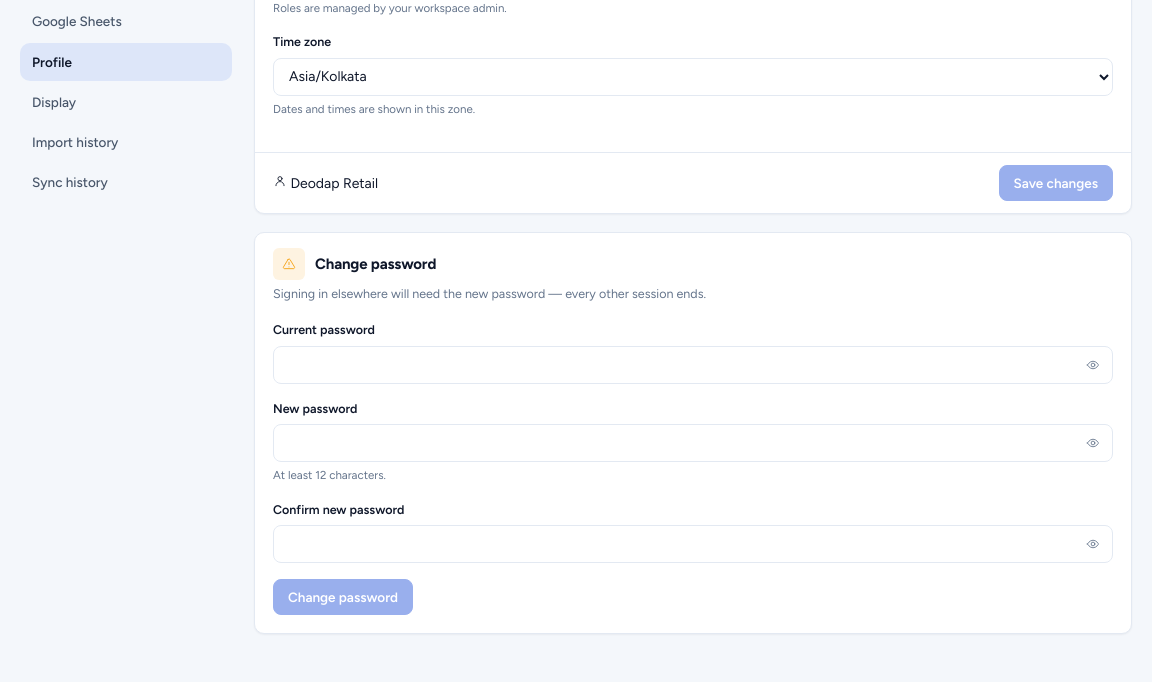
Test: Change password › sends both passwords, clears the form and reports the other sessions ending
(page scrolled)
Type "correct horse battery" into the password field labelled "Current password" at (693, 364), box [273,346,1113,384]
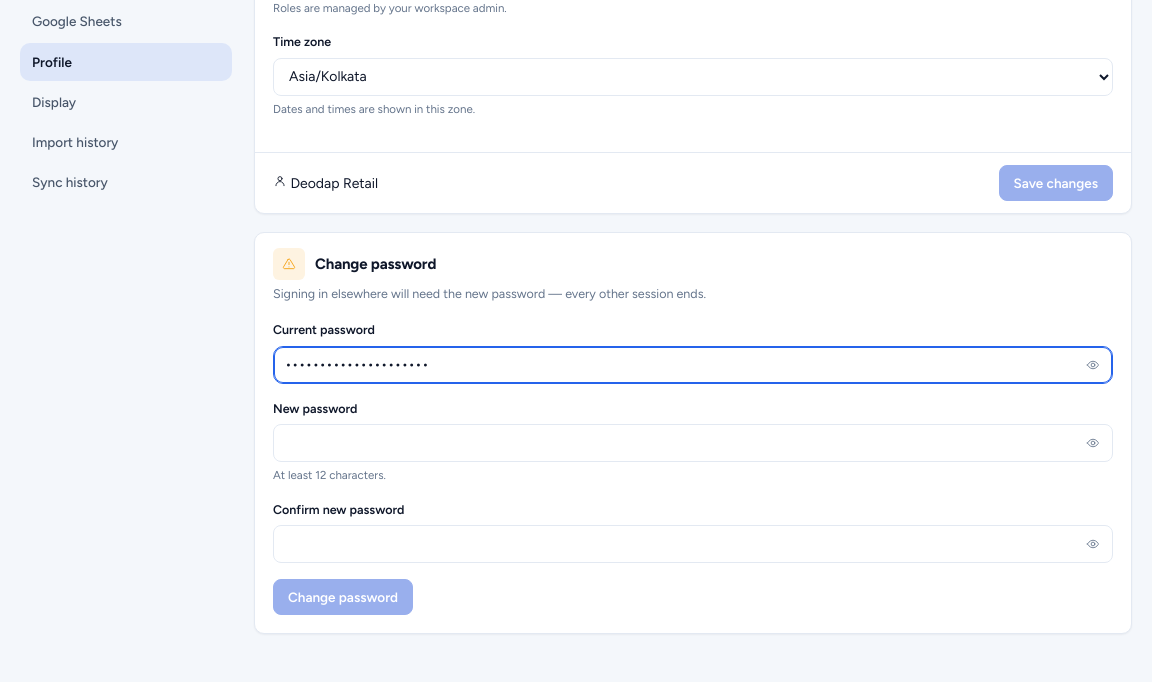
Type "a longer secret here" into the password field labelled "New password" at (693, 443), box [273,424,1113,462]
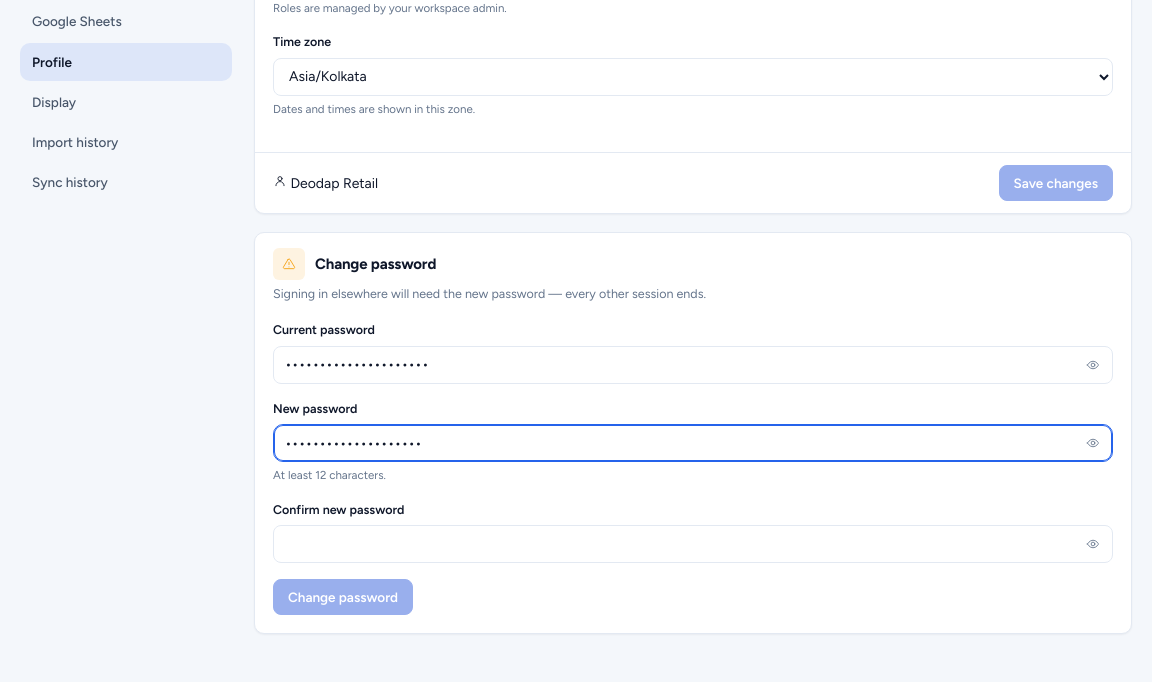
Type "a longer secret here" into the password field labelled "Confirm new password" at (693, 544), box [273,525,1113,563]
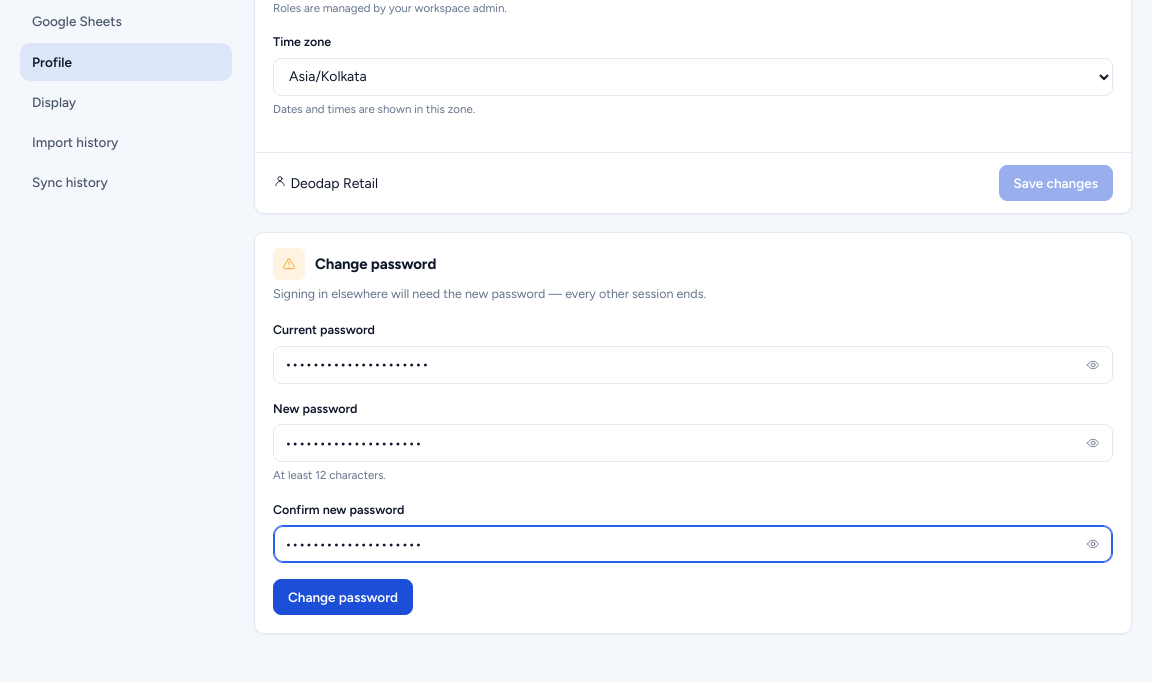
Click the button "Change password" at (343, 597), box [273,579,413,615]
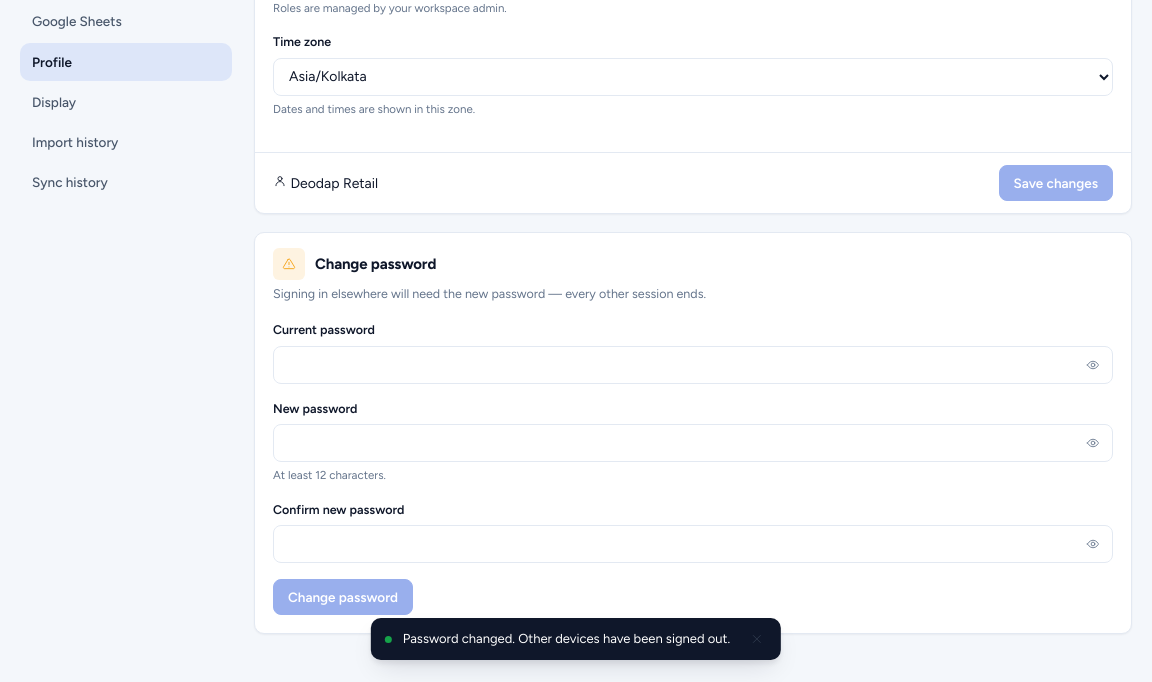
Result: the password field labelled "Current password" is empty at [273,346,1113,384]
Result: the text "Password changed. Other devices have been signed out." is shown at [403,629,730,649]
